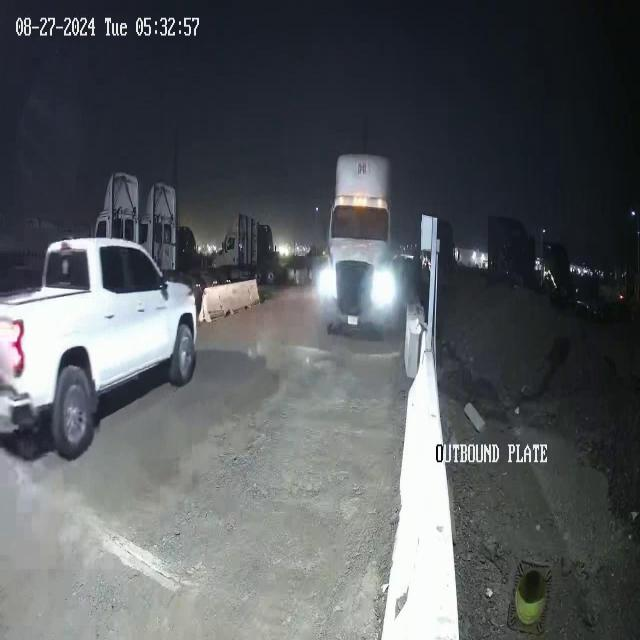TRUCK_IN: (325, 152, 403, 336)
